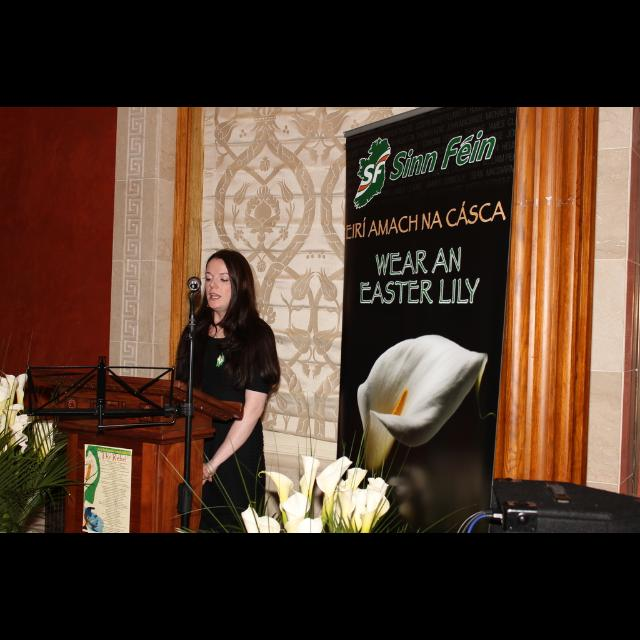Flower: (354, 334, 488, 472), (244, 457, 386, 533), (0, 375, 24, 457)
